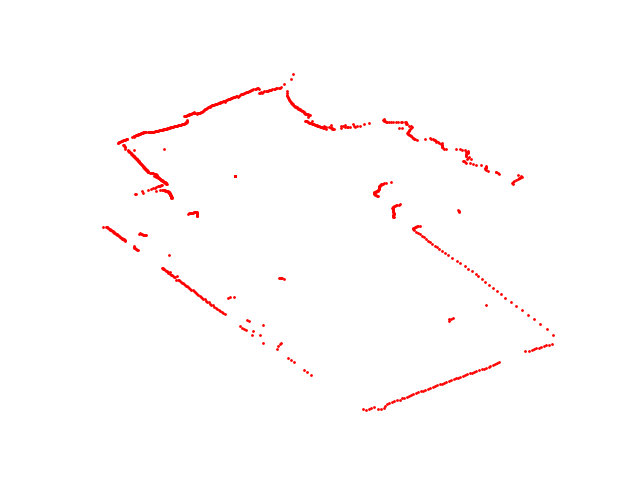person: (371, 180, 404, 221)
